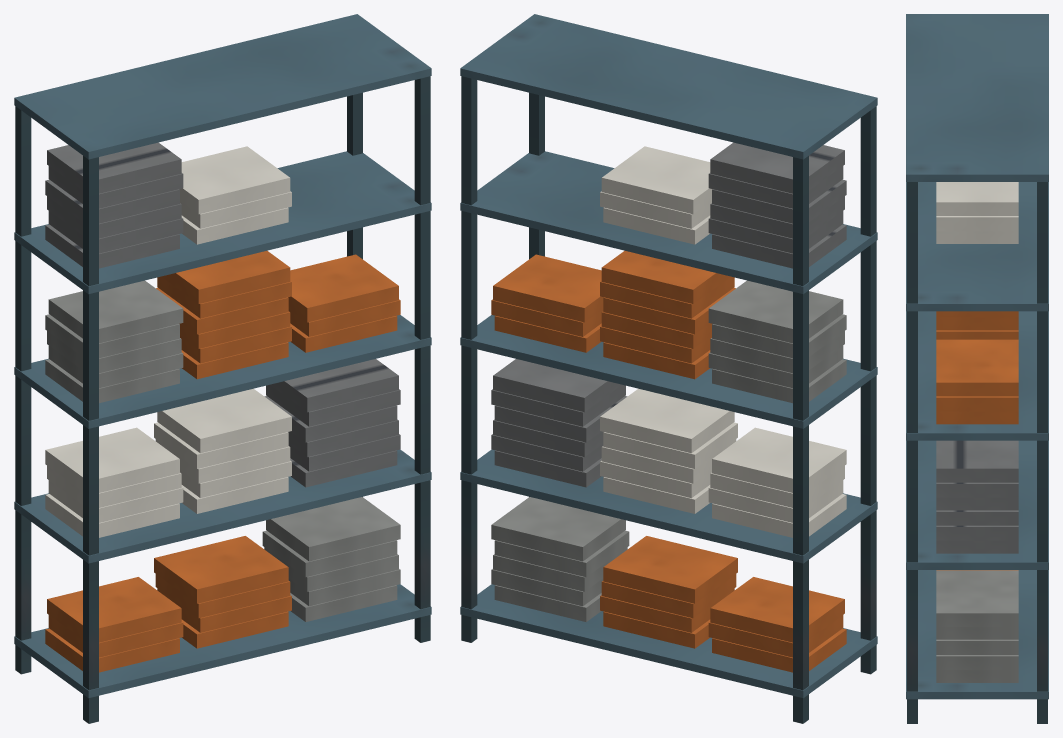
File: laundry_shelf.fbx
The picture shows the model from 3 angles, left to right: view 1: azimuth 30°, elevation 25°; view 2: azimuth 150°, elevation 25°; view 3: azimuth 270°, elevation 25°; orthographic projection. The views are drawn at different scales.
Parts seen in each view (by area): view 1: laundry_shelf; view 2: laundry_shelf; view 3: laundry_shelf.
Boxes of the visible parts, x1=… form: laundry_shelf: x1=14, y1=14, x2=431, y2=723; laundry_shelf: x1=460, y1=14, x2=877, y2=723; laundry_shelf: x1=906, y1=14, x2=1048, y2=723.
Bounding box in the file's own units: 1.2 × 1.91 × 0.45.
1 material, 1 textured.
